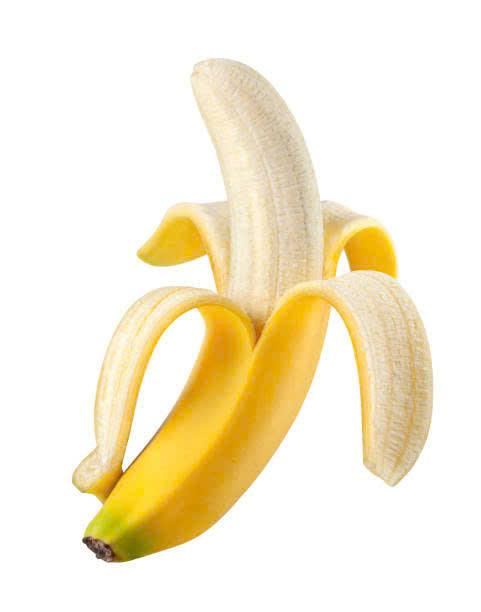banana: (103, 34, 444, 591)
